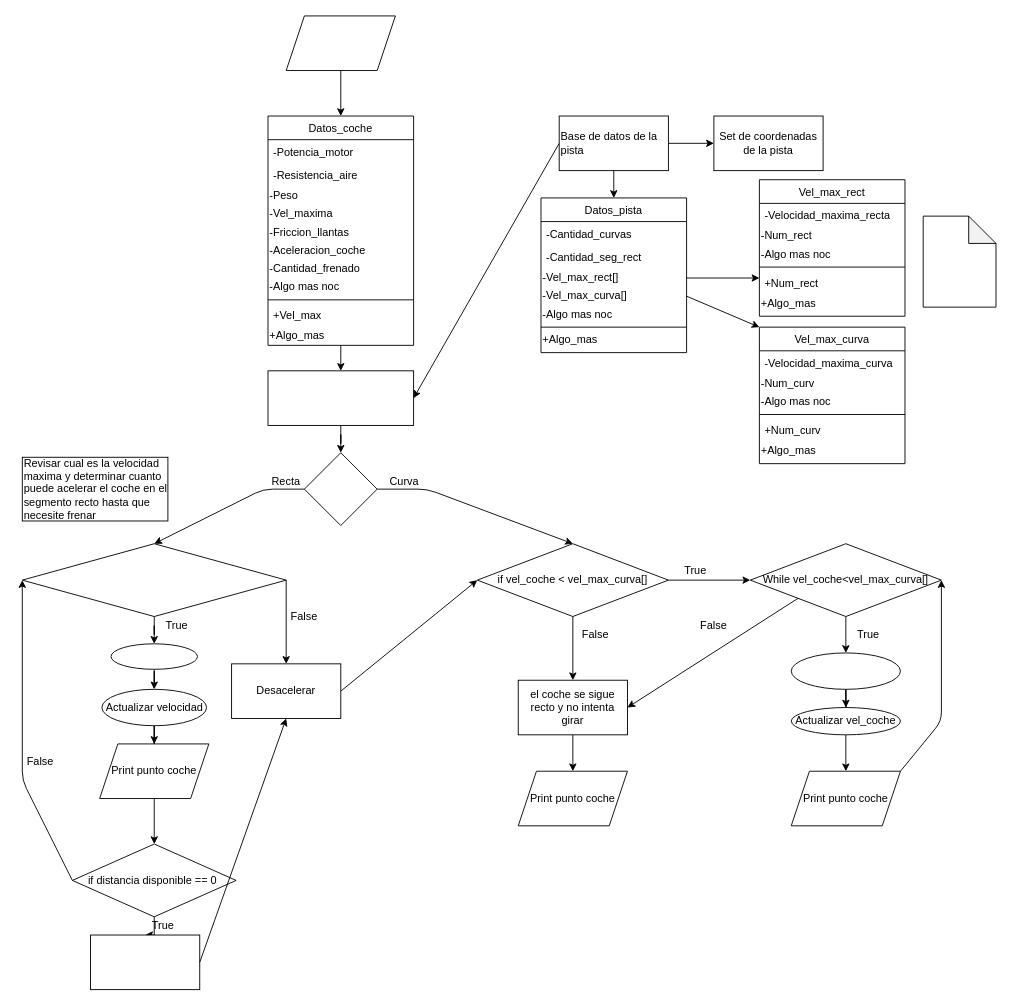
This 1012x1006 diagram has some shape labels left out. Each missing label, with the centre of its shape:
"Acelerar" belongs at pixel 153 656.
"Acercarse a la vel maxima" belongs at pixel 845 670.
"Actualizar a curva" belongs at pixel 145 962.
"If" belongs at pixel 340 489.
"Num_rect es el numero de la recta" belongs at pixel 959 261.
"Particula sobre autodromo hermanos rodriguez" belongs at pixel 340 397.
"Start" belongs at pixel 340 43.
"While distancia_necesaria_frenar < distancia_disponible" belongs at pixel 153 580.
